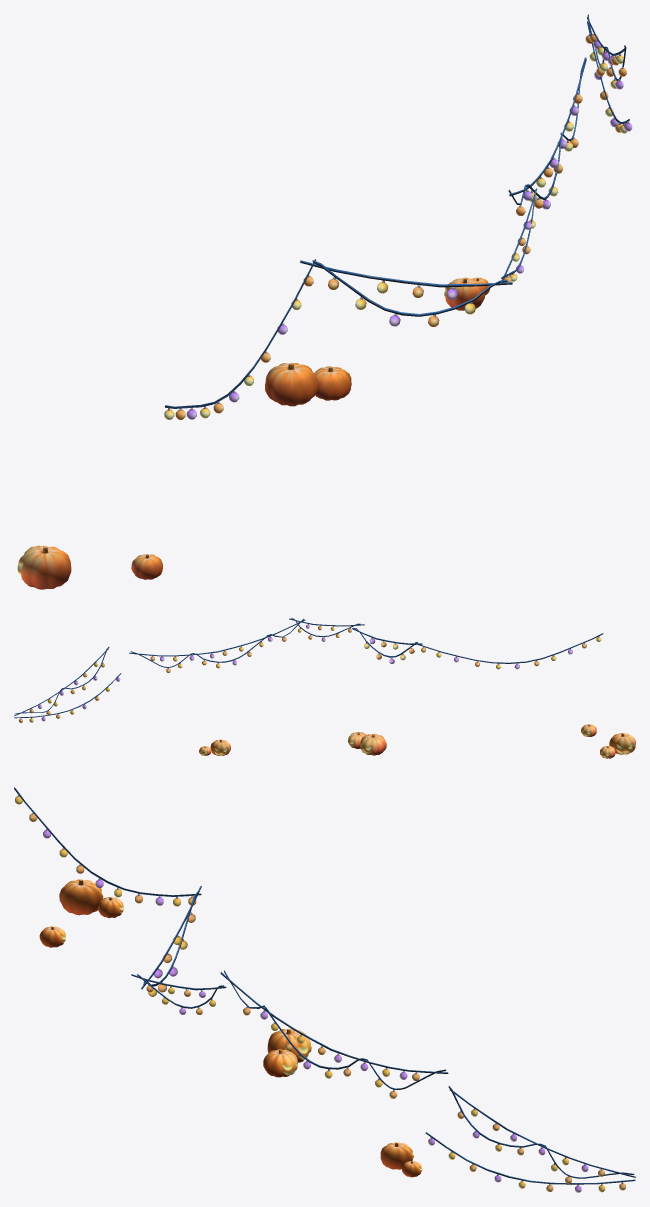
The model's file is pref_sm_4v4beachtech_WSJ_bk_decorate_L01_lv2.fbx.
3 views of the same model, one above another, from view 1: azimuth 30°, elevation 25°; view 2: azimuth 150°, elevation 25°; view 3: azimuth 270°, elevation 25° (orthographic). The views are drawn at different scales.
Visible parts, largest first — view 1: sm_4v4beachtech_WSJ_bk_decorate_L01_a_lv2, sm_4v4beachtech_WSJ_bk_decorate_L01_b_lv2; view 2: sm_4v4beachtech_WSJ_bk_decorate_L01_a_lv2, sm_4v4beachtech_WSJ_bk_decorate_L01_b_lv2; view 3: sm_4v4beachtech_WSJ_bk_decorate_L01_a_lv2, sm_4v4beachtech_WSJ_bk_decorate_L01_b_lv2.
Part boxes in pixels (bbox=[...]): sm_4v4beachtech_WSJ_bk_decorate_L01_a_lv2: bbox=[164, 14, 632, 419]; sm_4v4beachtech_WSJ_bk_decorate_L01_b_lv2: bbox=[17, 277, 489, 589]; sm_4v4beachtech_WSJ_bk_decorate_L01_a_lv2: bbox=[14, 618, 603, 722]; sm_4v4beachtech_WSJ_bk_decorate_L01_b_lv2: bbox=[199, 724, 635, 758]; sm_4v4beachtech_WSJ_bk_decorate_L01_a_lv2: bbox=[14, 787, 635, 1192]; sm_4v4beachtech_WSJ_bk_decorate_L01_b_lv2: bbox=[39, 879, 422, 1177].
Size of the model in its own units: 27.07 by 5.98 by 19.65.
